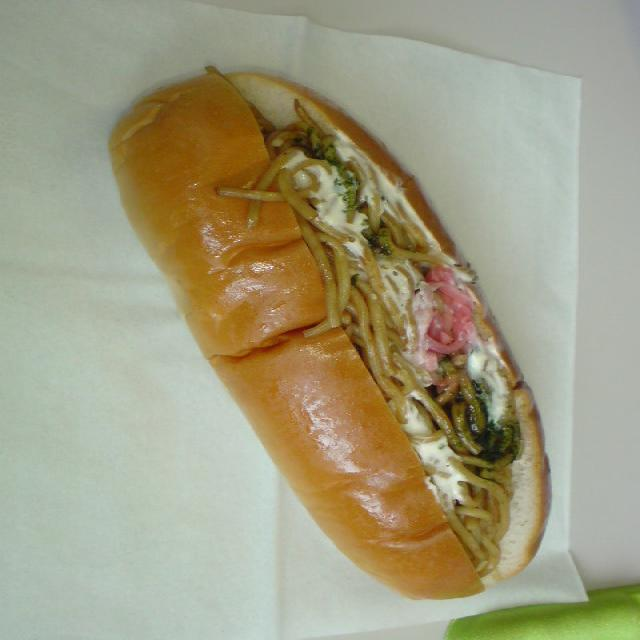三明治: (70, 29, 640, 408)
